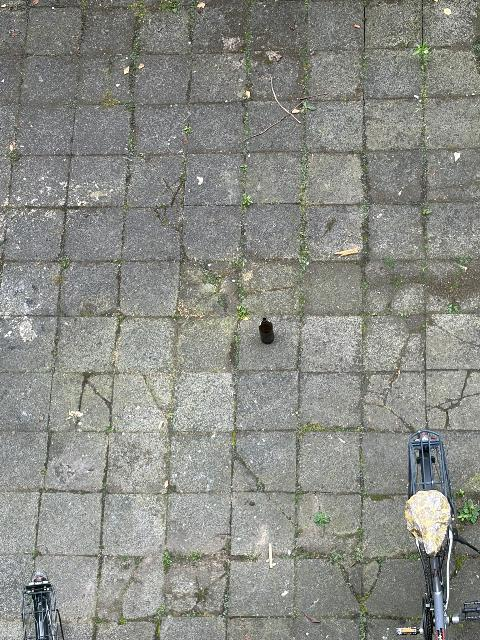glass_bottle: (258, 318, 275, 344)
